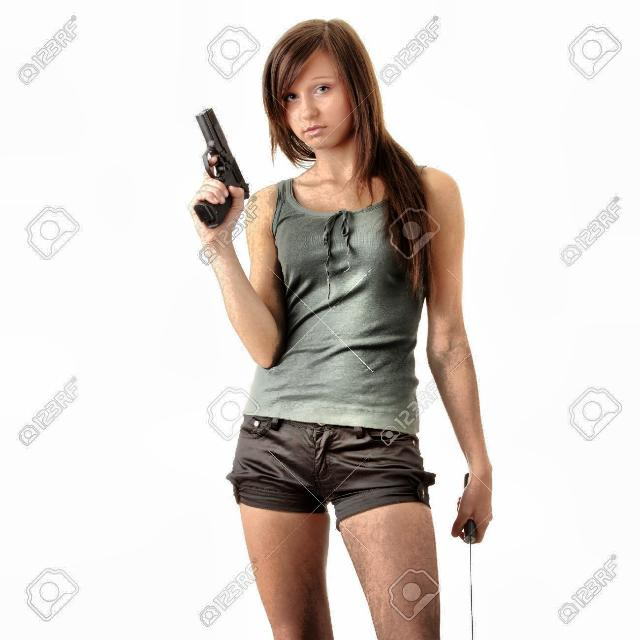pistol: (180, 104, 253, 224)
